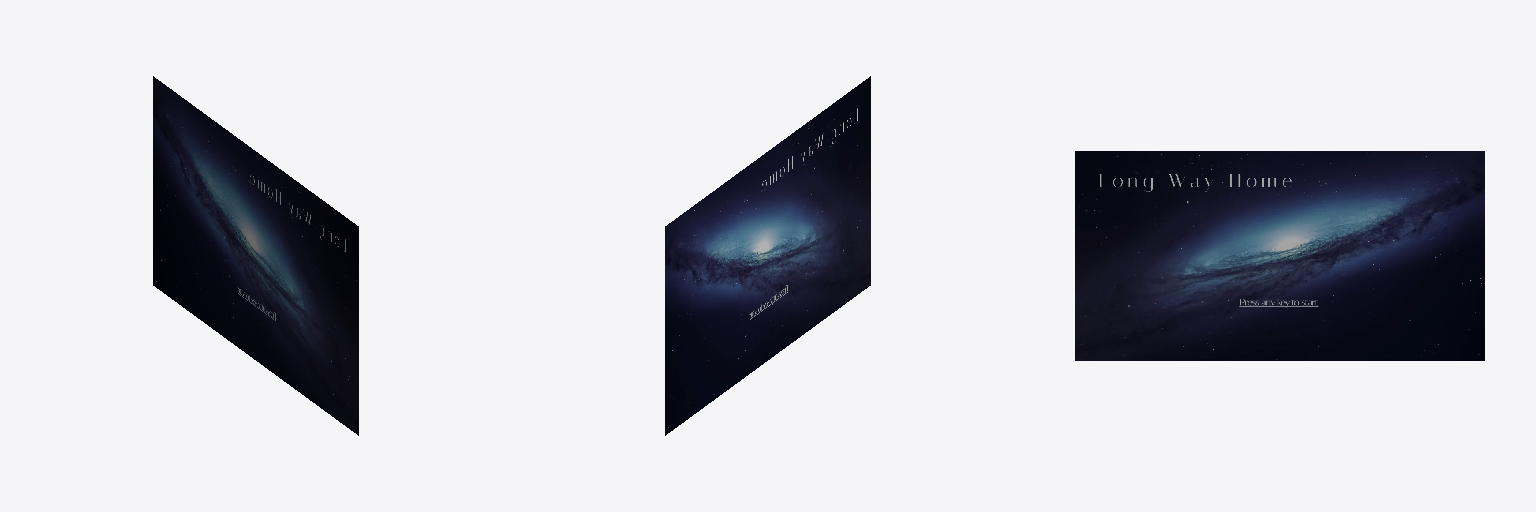
The picture shows the model from 3 angles: view 1: azimuth 30°, elevation 25°; view 2: azimuth 150°, elevation 25°; view 3: azimuth 270°, elevation 25°; orthographic projection.
Visible parts, largest first — view 1: titlescreen; view 2: titlescreen; view 3: titlescreen.
Boxes of the visible parts, box(x1,y1,x2,y2) form: titlescreen: box(153, 76, 358, 435); titlescreen: box(665, 76, 870, 435); titlescreen: box(1075, 151, 1484, 360).
Bounding box in the file's own units: 0 × 1 × 1.78.
1 materials, 1 textured.